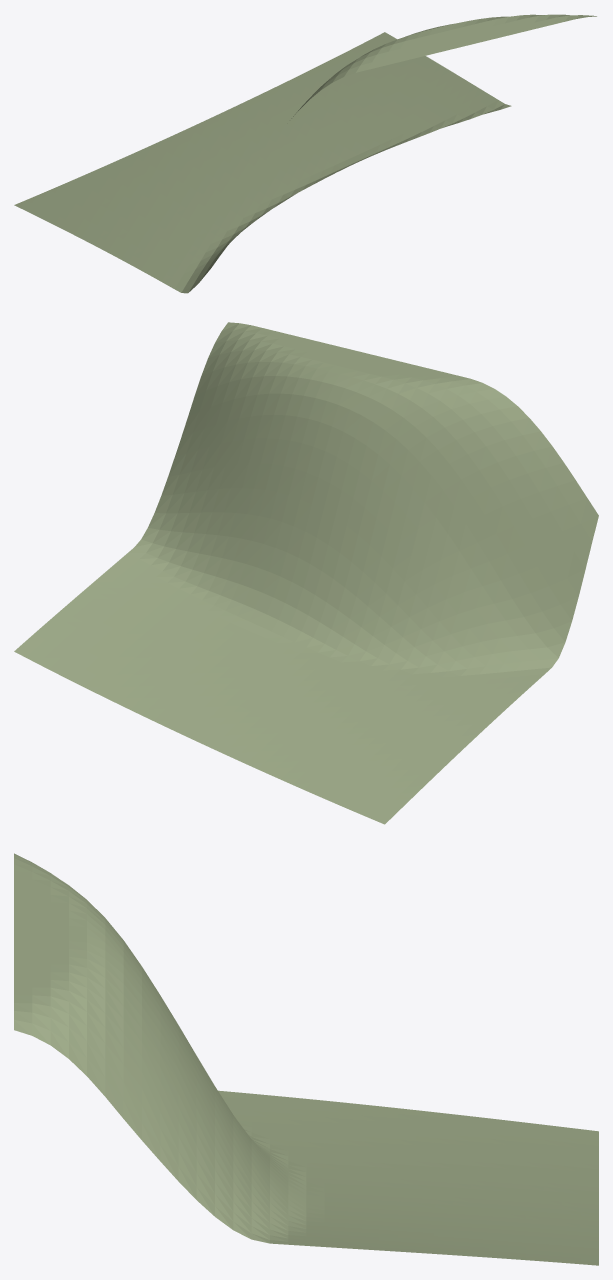
Rendered from alpine-6-1.glb.
The picture shows the model from 3 angles, top to bottom: view 1: azimuth 30°, elevation 25°; view 2: azimuth 150°, elevation 25°; view 3: azimuth 270°, elevation 25°; orthographic projection. The views are drawn at different scales.
Parts seen in each view (by area): view 1: alpine-6-1; view 2: alpine-6-1; view 3: alpine-6-1.
Part boxes in pixels (x1,y1,x2,y2): alpine-6-1: [14, 14, 596, 293]; alpine-6-1: [14, 322, 598, 824]; alpine-6-1: [14, 853, 598, 1265].
Bounding box in the file's own units: 256 × 170 × 256.
